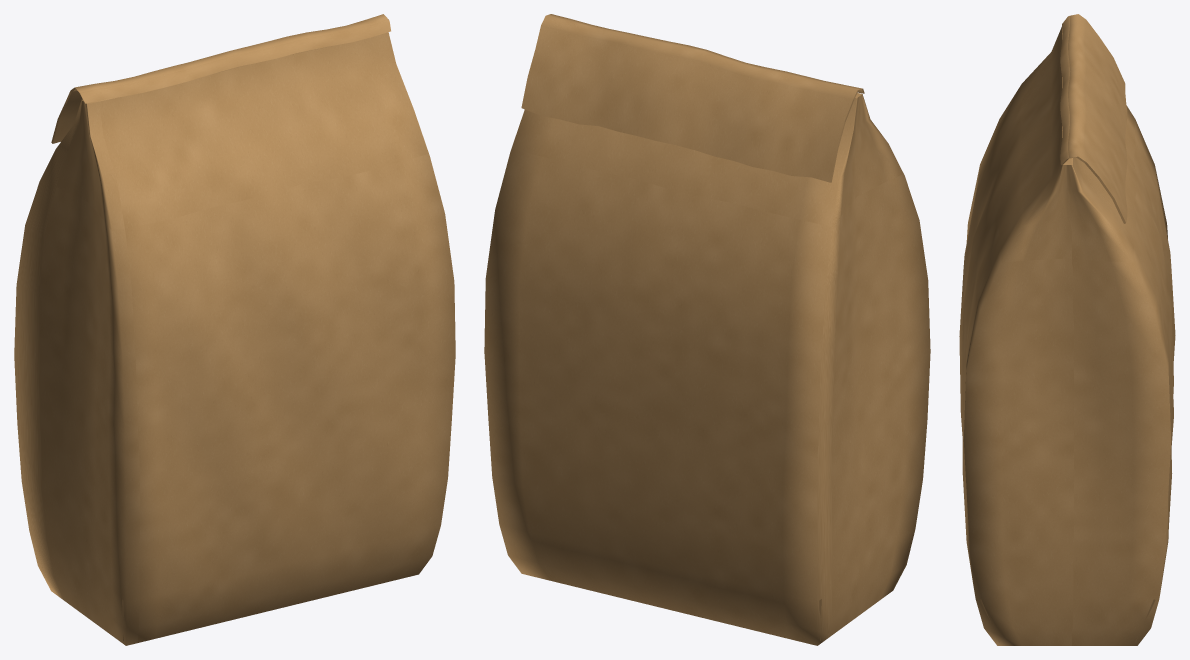
File: Closed_Lunch_Bag.fbx
The picture shows the model from 3 angles, left to right: view 1: azimuth 30°, elevation 25°; view 2: azimuth 150°, elevation 25°; view 3: azimuth 270°, elevation 25°; orthographic projection. The views are drawn at different scales.
Parts seen in each view (by area): view 1: Closed_Lunch_Bag; view 2: Closed_Lunch_Bag; view 3: Closed_Lunch_Bag.
Boxes of the visible parts, x1,y1,x2,y2 form: Closed_Lunch_Bag: (14, 14, 455, 645); Closed_Lunch_Bag: (484, 14, 930, 645); Closed_Lunch_Bag: (959, 14, 1175, 645).
Size of the model in its own units: 0.158 by 0.2415 by 0.0956.
Materials: 3 (3 with a texture image).
